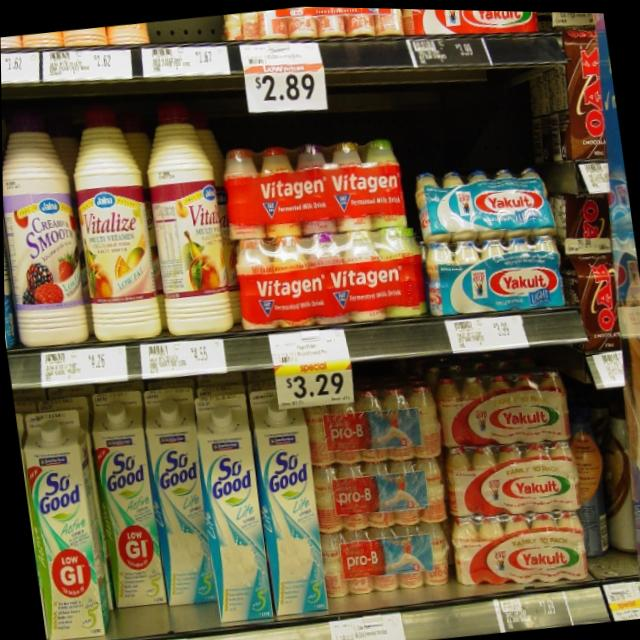q262: (199, 423, 276, 633), (147, 416, 222, 606), (253, 423, 326, 616)
